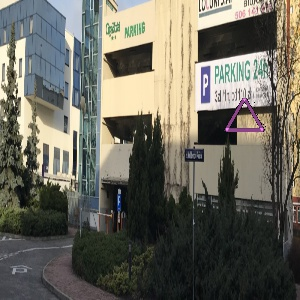triangle: (221, 94, 270, 135)
